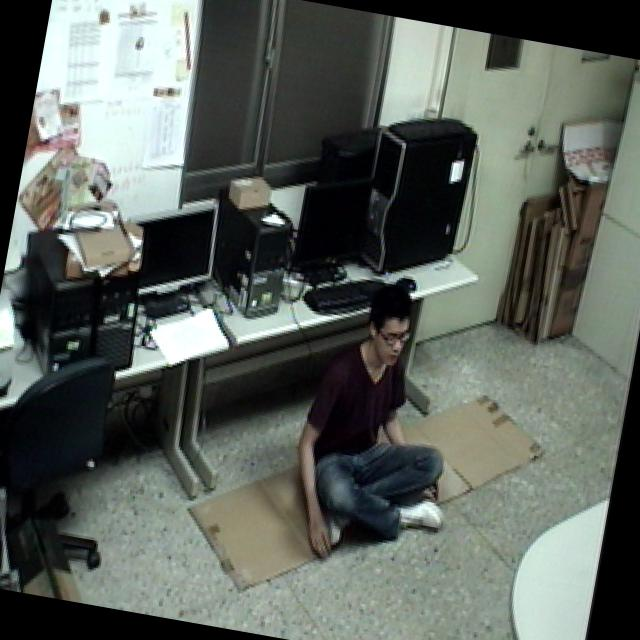sit: (272, 260, 492, 586)
